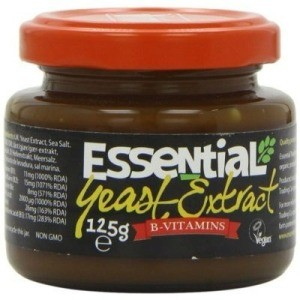yeast spread_brain food: (28, 79, 276, 239)
